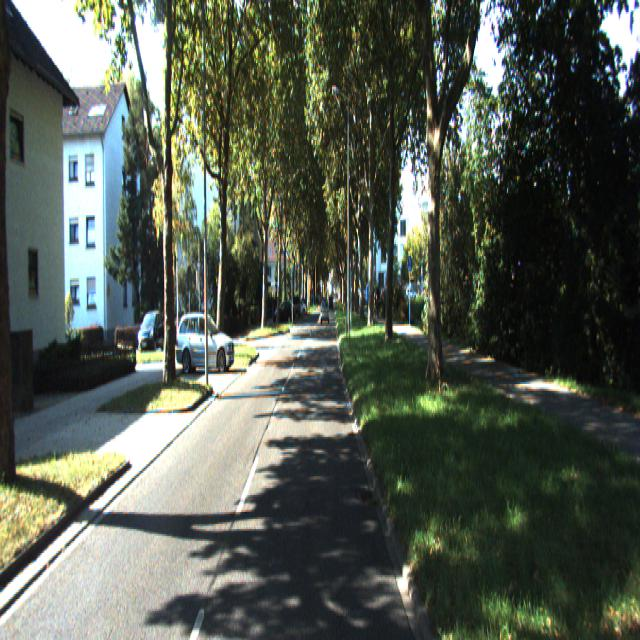Car: (172, 315, 236, 376)
